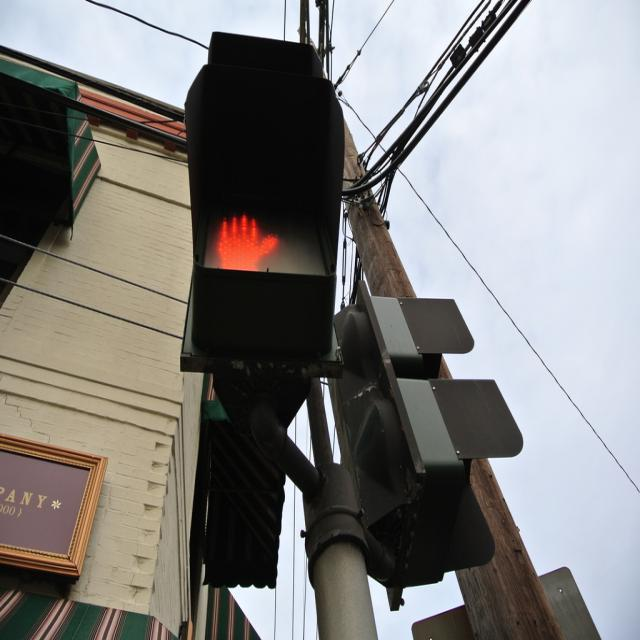traffic light: (195, 26, 337, 339)
